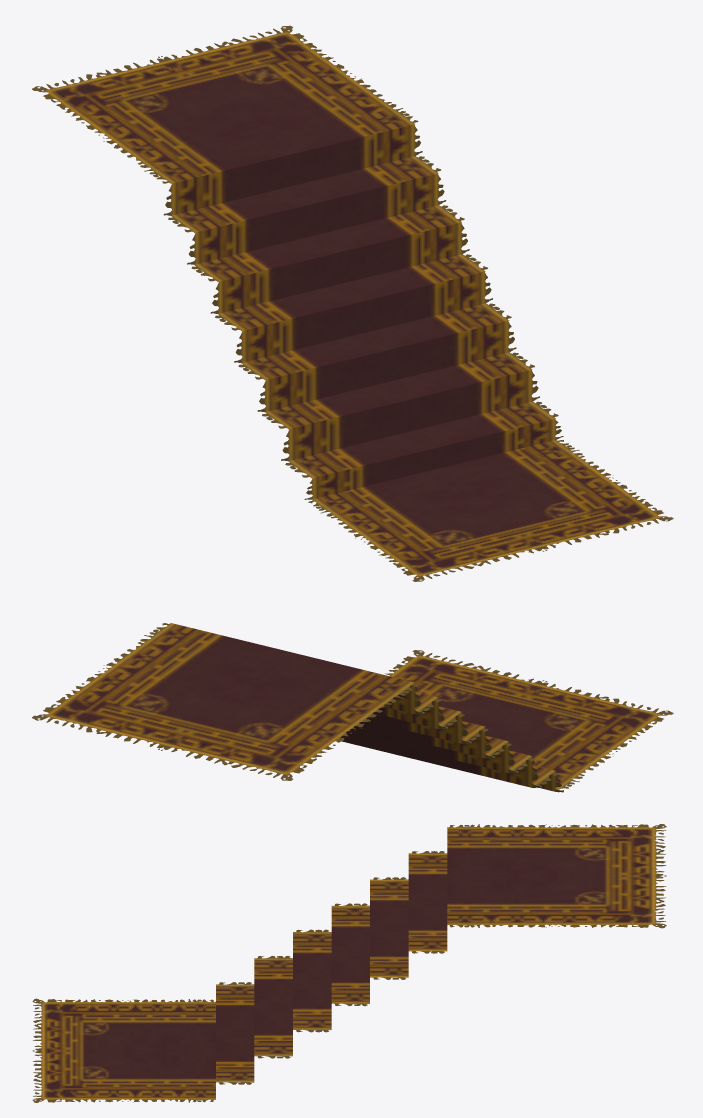
The model's file is Carpet_Mid_Str_3.fbx.
3 views of the same model, one above another, from view 1: azimuth 30°, elevation 25°; view 2: azimuth 150°, elevation 25°; view 3: azimuth 270°, elevation 25° (orthographic). The views are drawn at different scales.
Visible parts, largest first — view 1: polySurface7358; view 2: polySurface7358; view 3: polySurface7358.
Part boxes in pixels (x1,y1,x2,y2): polySurface7358: (32, 25, 673, 581); polySurface7358: (32, 623, 673, 792); polySurface7358: (32, 824, 666, 1102).
Size of the model in its own units: 2.6 by 2 by 7.
